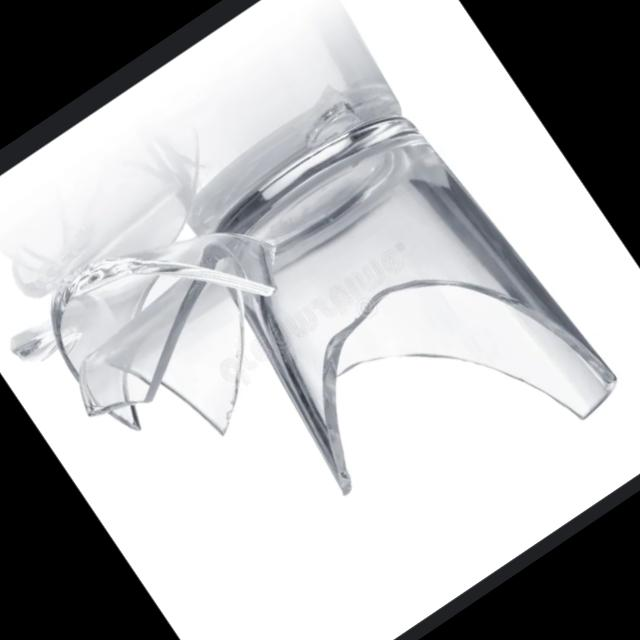PecahanKaca: (172, 80, 628, 558), (16, 172, 347, 494)
